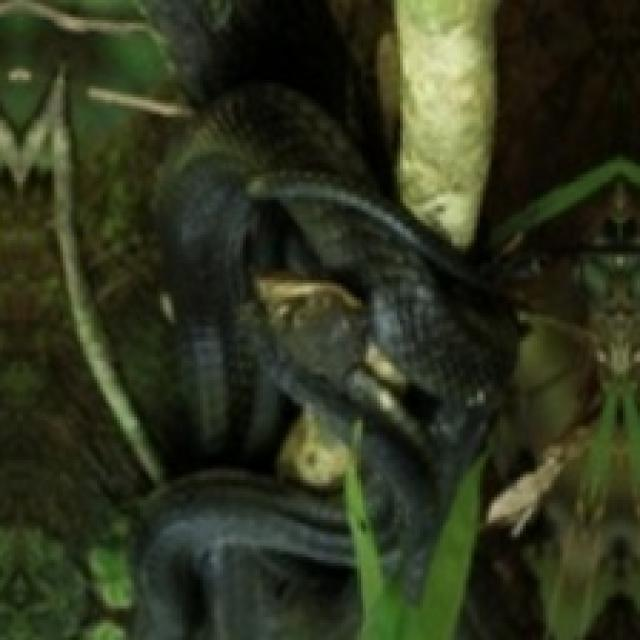king cobra: (80, 0, 514, 637), (89, 149, 160, 271)
